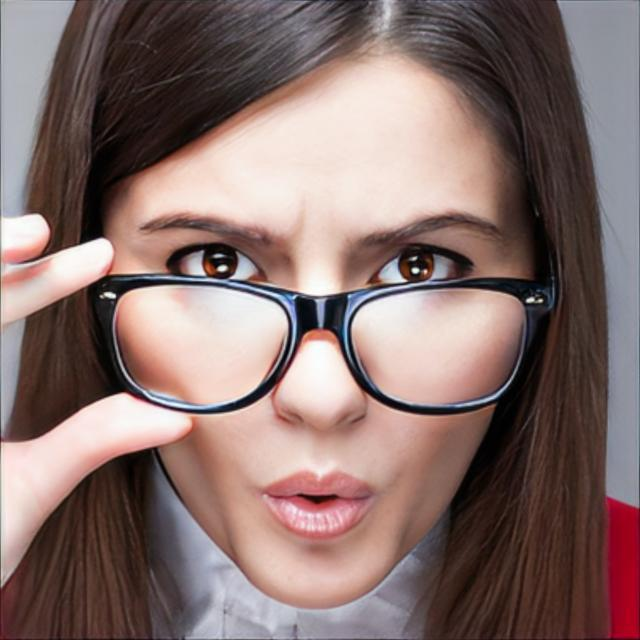anger: (108, 44, 542, 616)
